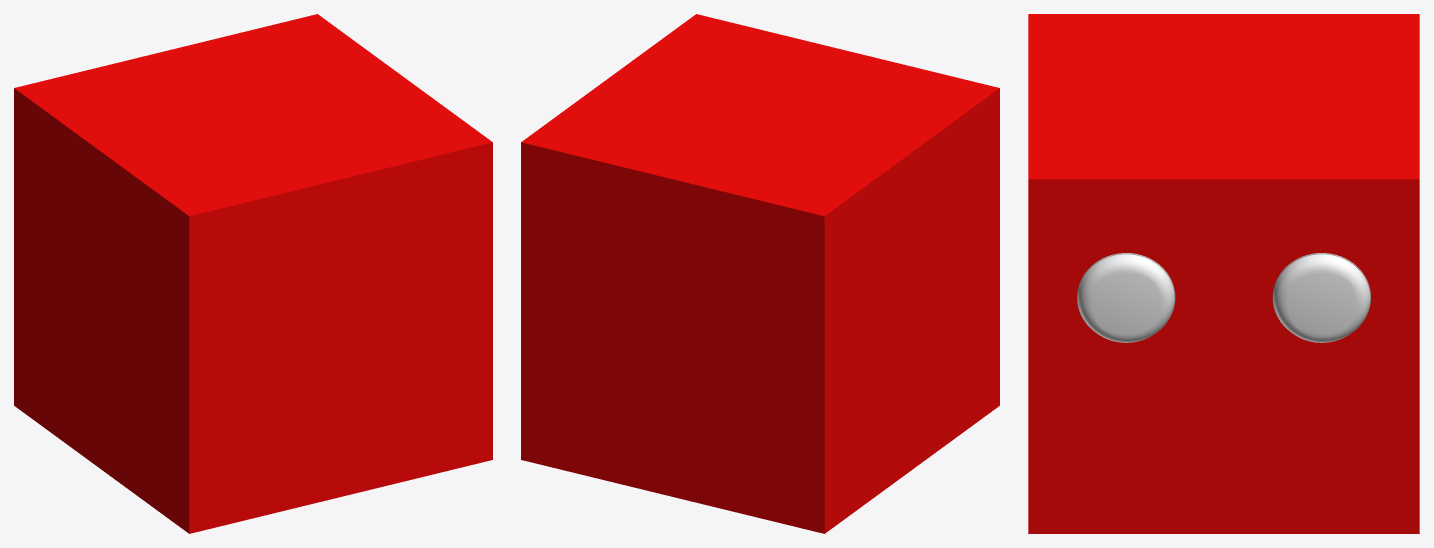
The model's file is JelloDud.fbx.
The picture shows the model from 3 angles, left to right: view 1: azimuth 30°, elevation 25°; view 2: azimuth 150°, elevation 25°; view 3: azimuth 270°, elevation 25°; orthographic projection. The views are drawn at different scales.
Visible parts, largest first — view 1: Cube; view 2: Cube; view 3: Cube, Left Eye, Right Eye.
Part boxes in pixels (x1=…): Cube: x1=14, y1=14, x2=492, y2=533; Cube: x1=521, y1=14, x2=999, y2=533; Cube: x1=1028, y1=14, x2=1419, y2=533; Left Eye: x1=1272, y1=253, x2=1370, y2=342; Right Eye: x1=1077, y1=253, x2=1175, y2=342.
Size of the model in its own units: 416 by 400 by 400.
